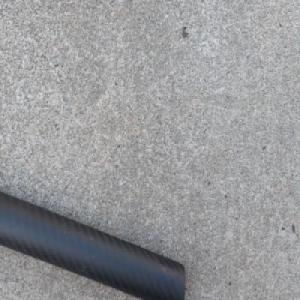LuggagePart: (0, 188, 187, 300)
